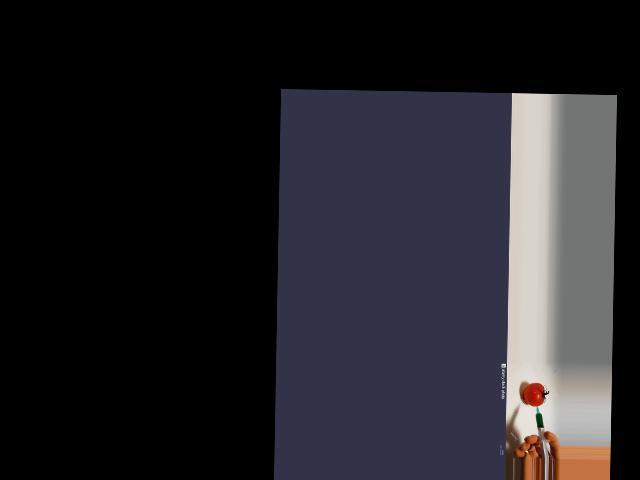tomato: (523, 383, 544, 406)
